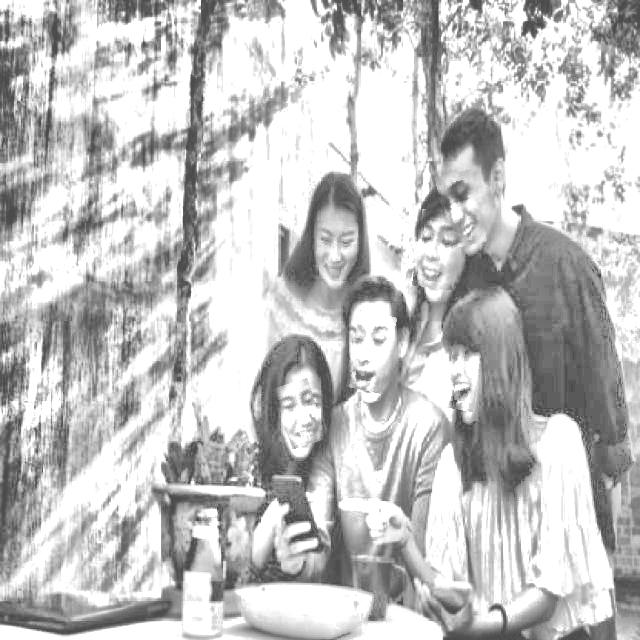happy: (348, 311, 394, 393), (414, 210, 460, 289), (438, 170, 484, 248), (278, 380, 322, 448), (314, 221, 358, 281), (445, 341, 482, 411)
